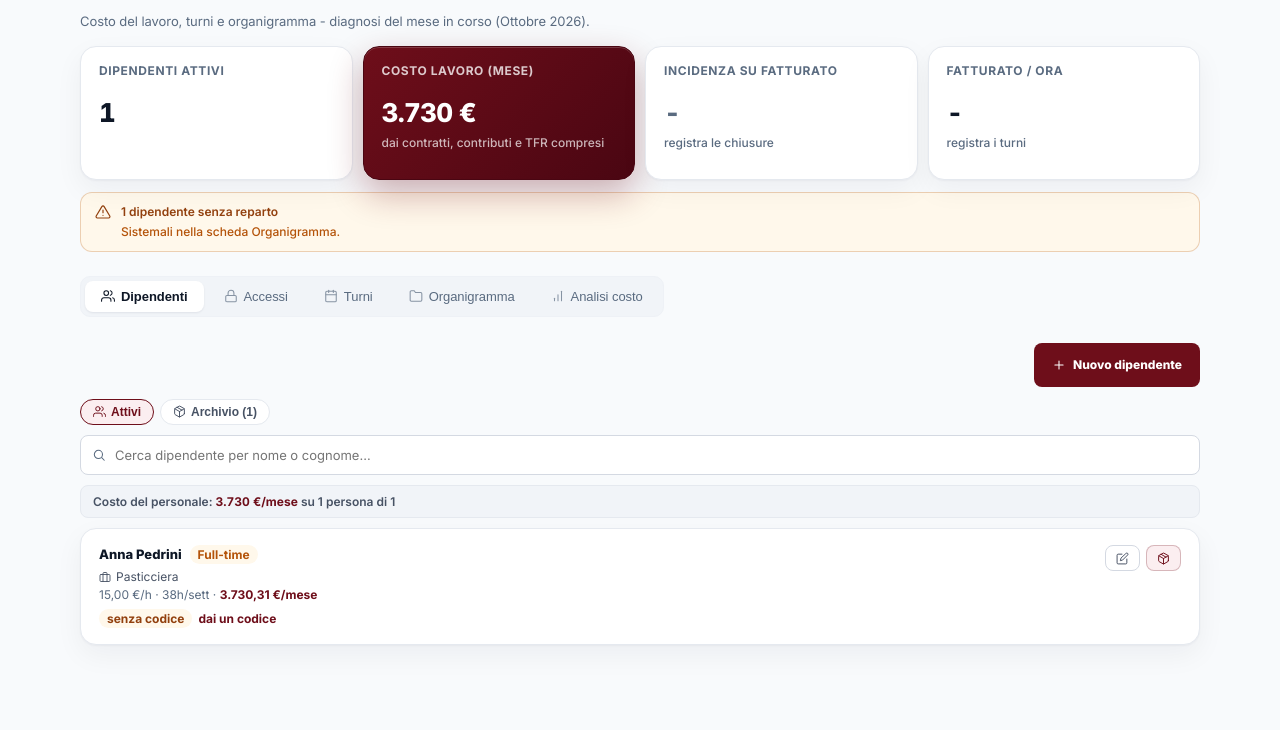
it: Aprire e chiudere la sezione › «Modifica» su una persona apre la stessa sezione, già compilata
Click the button named "Modifica" at (1122, 558), box [1105,544,1140,570]
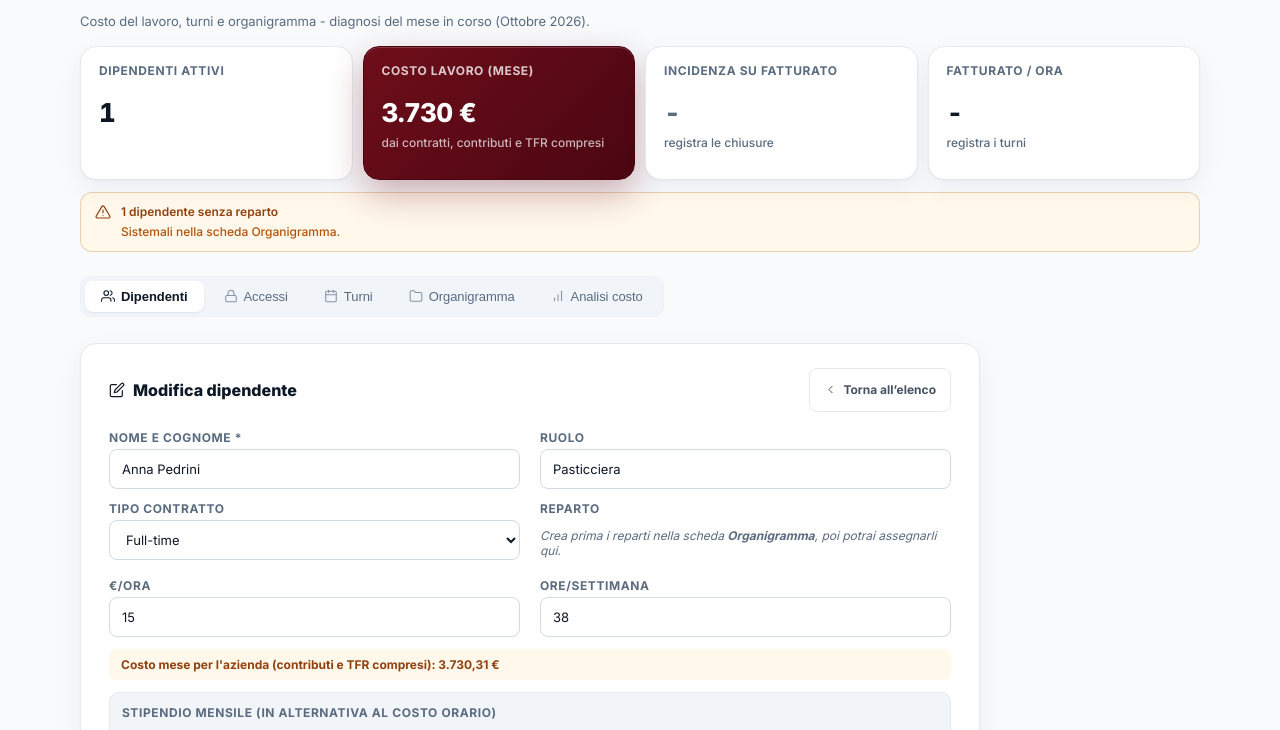
Now the field below "Nome e cognome *" holds "Anna Pedrini", box [109,448,520,488]
